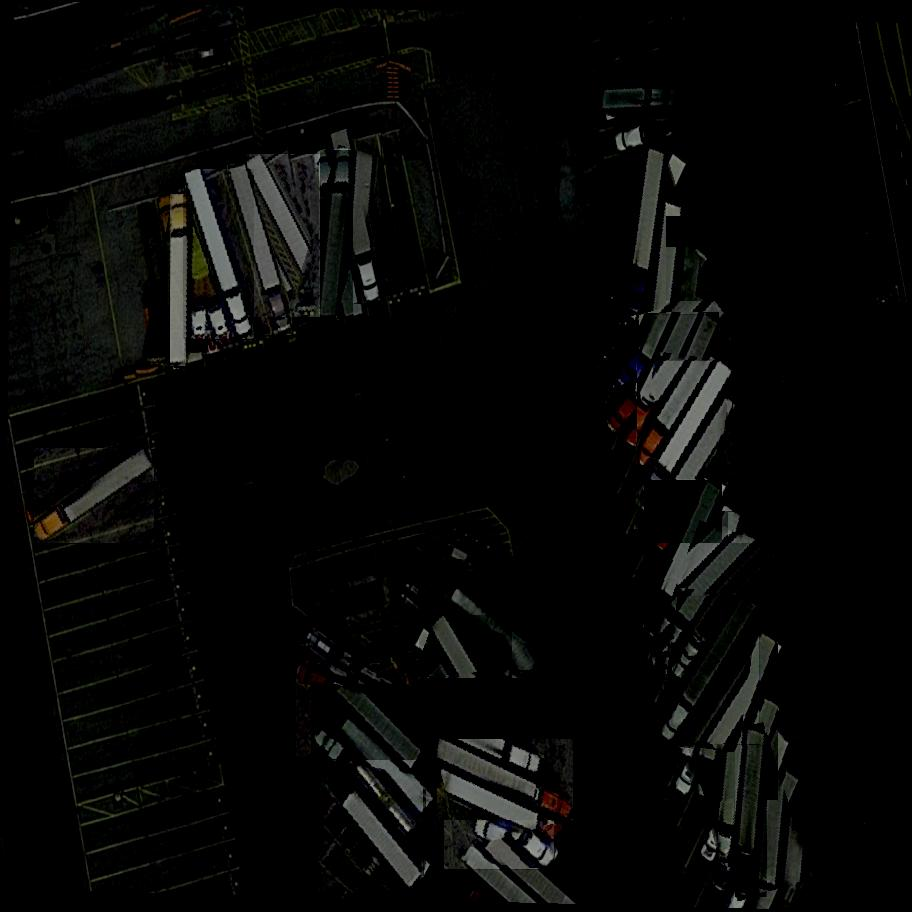large-vehicle: (648, 543, 777, 677), (603, 302, 729, 438), (593, 215, 701, 366), (659, 597, 763, 747), (246, 154, 341, 318), (610, 248, 712, 399), (635, 361, 736, 513), (414, 556, 546, 672), (310, 684, 429, 811), (316, 758, 426, 890), (419, 678, 555, 781), (313, 710, 413, 850), (442, 751, 558, 870), (638, 315, 721, 476), (293, 661, 431, 757), (643, 480, 723, 639), (703, 633, 779, 800), (185, 169, 257, 341), (32, 448, 158, 545), (434, 740, 578, 822), (427, 616, 514, 751), (230, 164, 294, 337), (664, 393, 729, 553), (330, 130, 383, 305), (717, 699, 763, 867), (626, 148, 668, 316), (695, 637, 735, 802), (676, 505, 714, 668), (321, 149, 357, 321), (735, 729, 768, 897), (188, 186, 208, 352), (170, 195, 186, 366), (599, 84, 679, 114)
